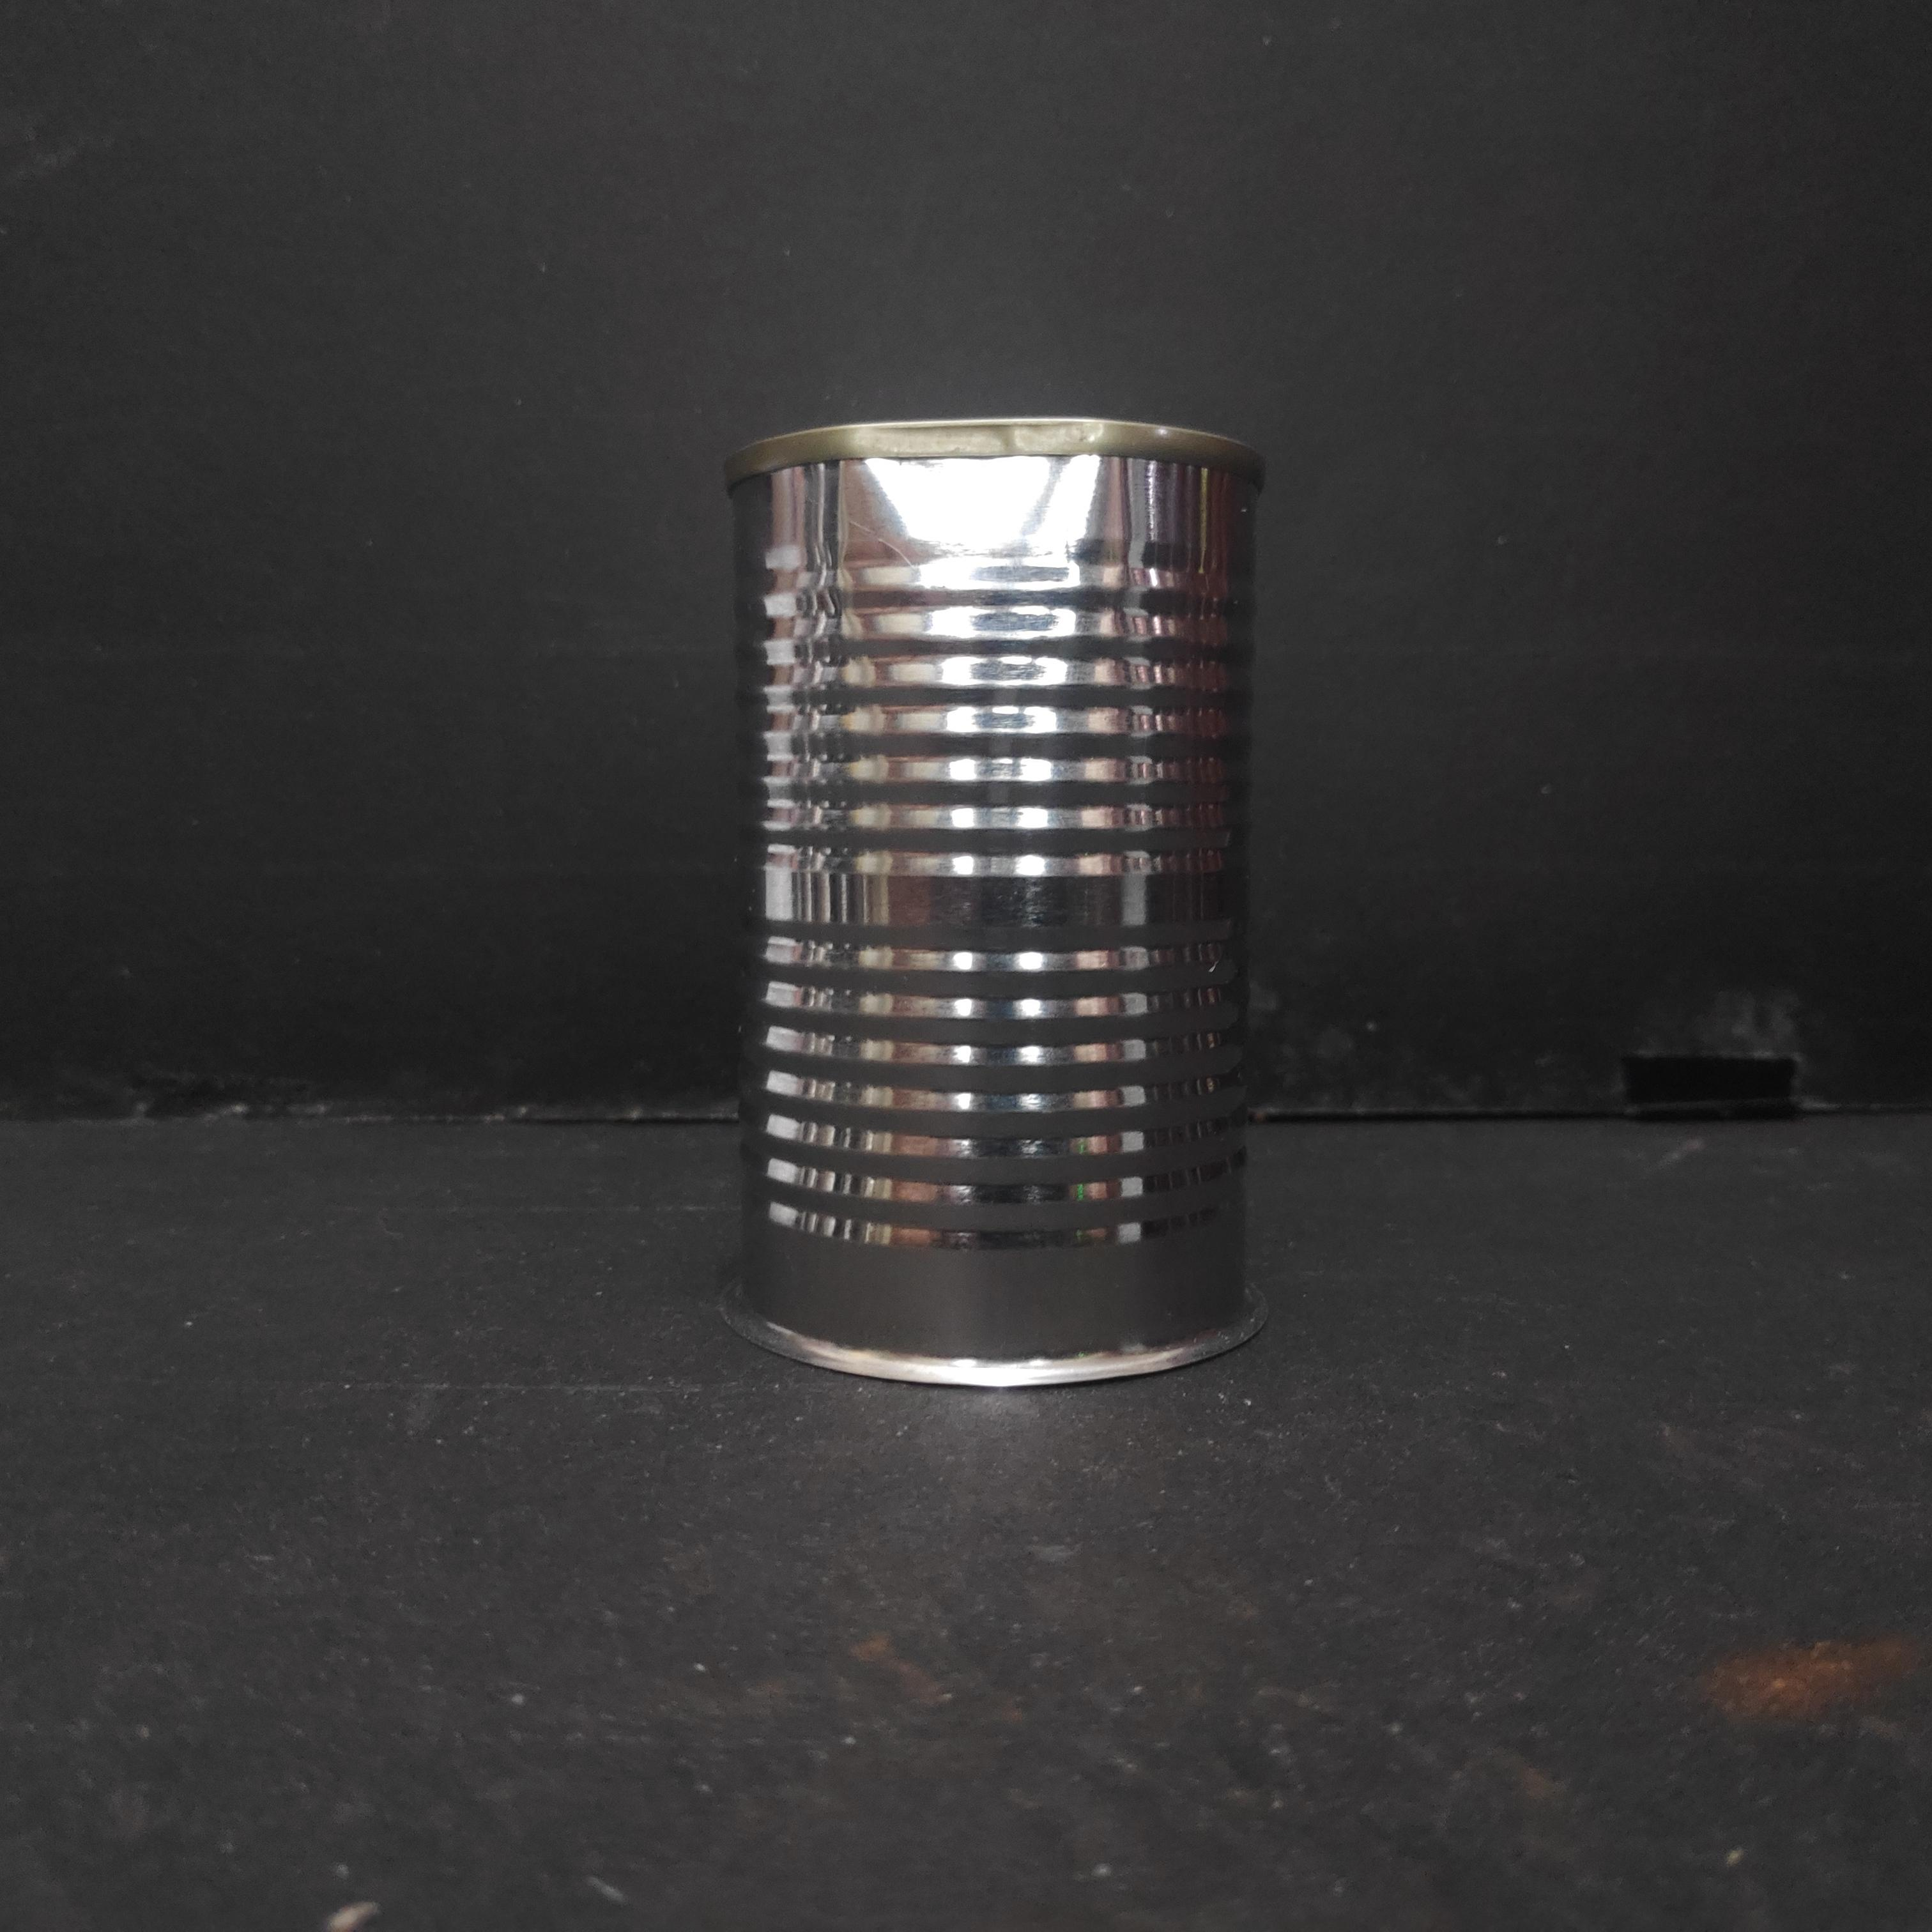Minor Defect: (710, 397, 1287, 1397)
